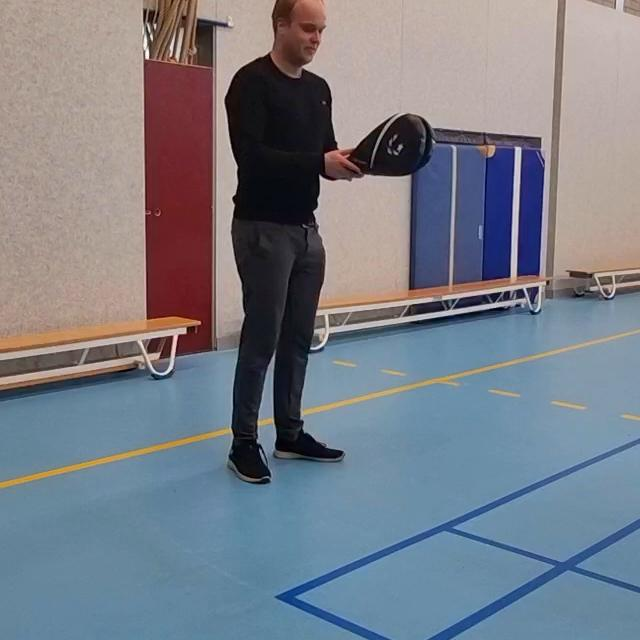paddle: (337, 110, 437, 182)
